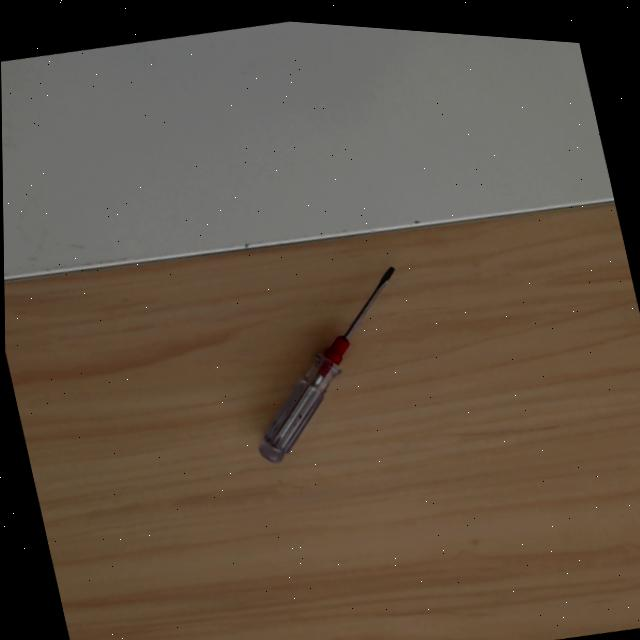Obeng-Kecil: (253, 257, 404, 467)
